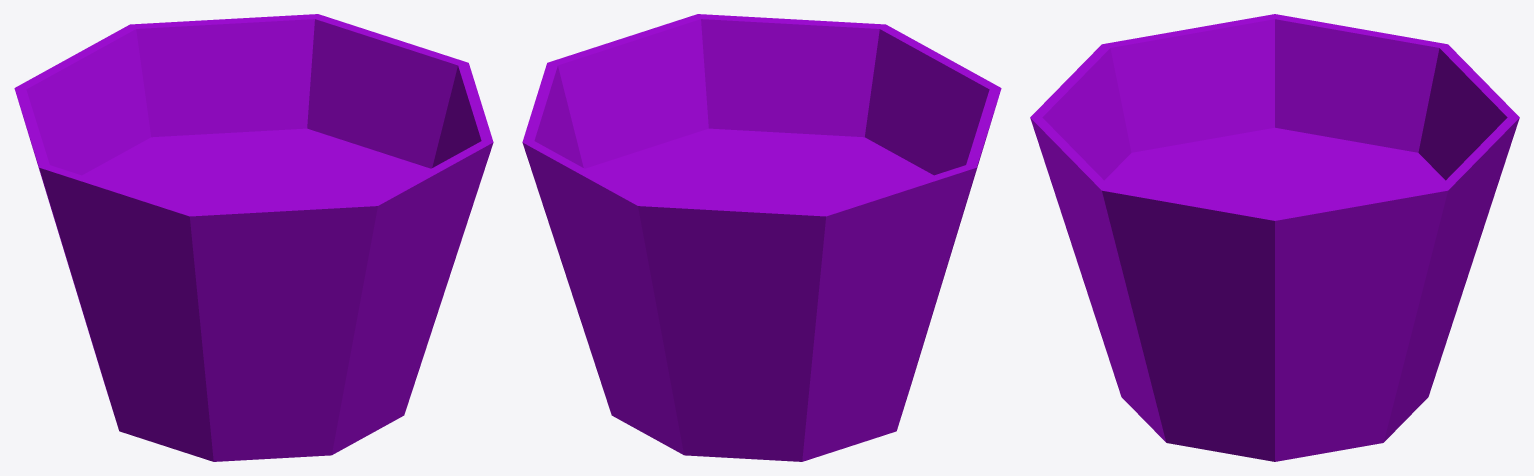
The model's file is sm_plantPot_low.fbx.
3 renders of one model, left to right at view 1: azimuth 30°, elevation 25°; view 2: azimuth 150°, elevation 25°; view 3: azimuth 270°, elevation 25°, orthographic.
Parts seen in each view (by area): view 1: polySurface226; view 2: polySurface226; view 3: polySurface226.
Boxes of the visible parts, x1=… form: polySurface226: x1=14, y1=14, x2=493, y2=461; polySurface226: x1=522, y1=14, x2=1001, y2=461; polySurface226: x1=1030, y1=14, x2=1519, y2=461.
Bounding box in the file's own units: 210 × 132 × 210.
